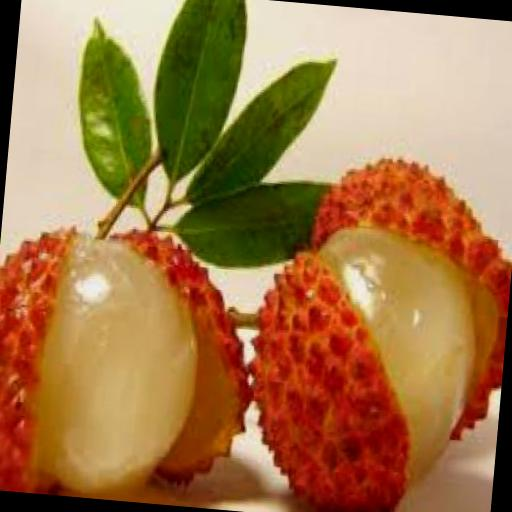biodegradable: (298, 148, 512, 442), (239, 243, 432, 512), (306, 217, 489, 491), (34, 234, 211, 505), (88, 222, 266, 491), (184, 44, 338, 214), (0, 218, 85, 493), (149, 0, 250, 190), (71, 16, 163, 204), (175, 168, 337, 274)
